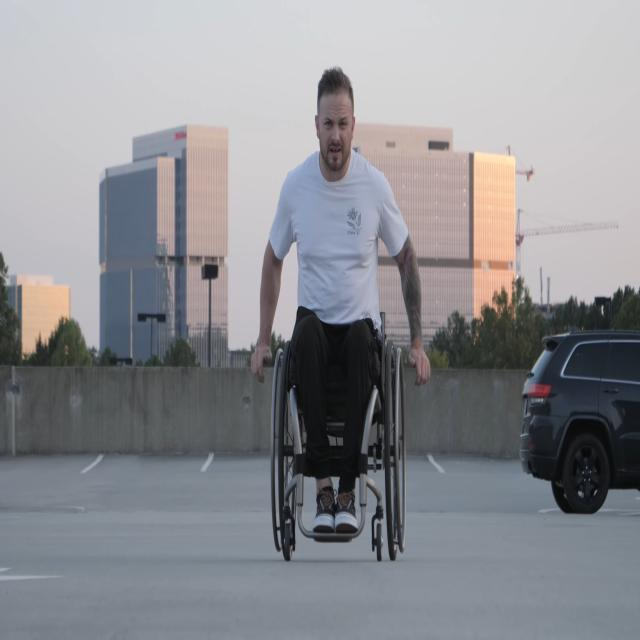wheelchairs: (268, 266, 408, 564)
